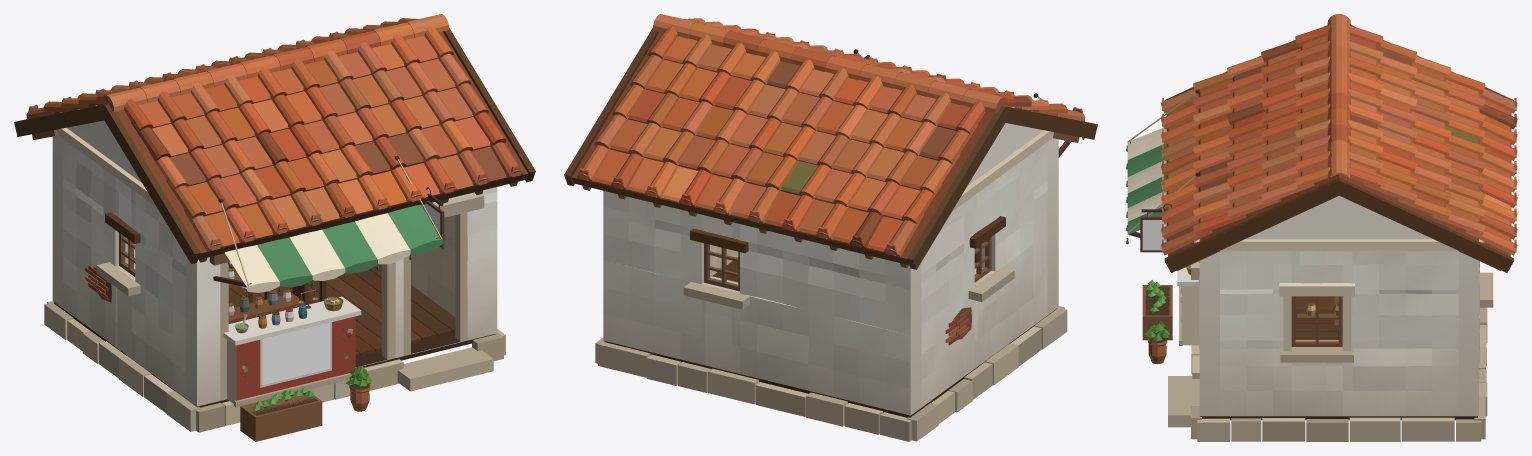
File: shop_herbalist.glb
3 views of the same model, side by side, from view 1: azimuth 30°, elevation 25°; view 2: azimuth 150°, elevation 25°; view 3: azimuth 270°, elevation 25° (orthographic). The views are drawn at different scales.
Visible parts, largest first — view 1: House, Walls, Rooms; view 2: House, Walls, Rooms; view 3: House, Walls, Rooms.
Part boxes in pixels (<box>): House: <box>14,14,535,441</box>; Walls: <box>52,120,497,406</box>; Rooms: <box>134,215,455,356</box>; House: <box>564,14,1097,441</box>; Walls: <box>603,123,1058,415</box>; Rooms: <box>712,245,738,282</box>; House: <box>1126,14,1517,441</box>; Walls: <box>1198,195,1479,416</box>; Rooms: <box>1295,296,1338,340</box>.
Bounding box in the file's own units: 4.09 × 3.26 × 4.2.
7 materials, 7 textured.
